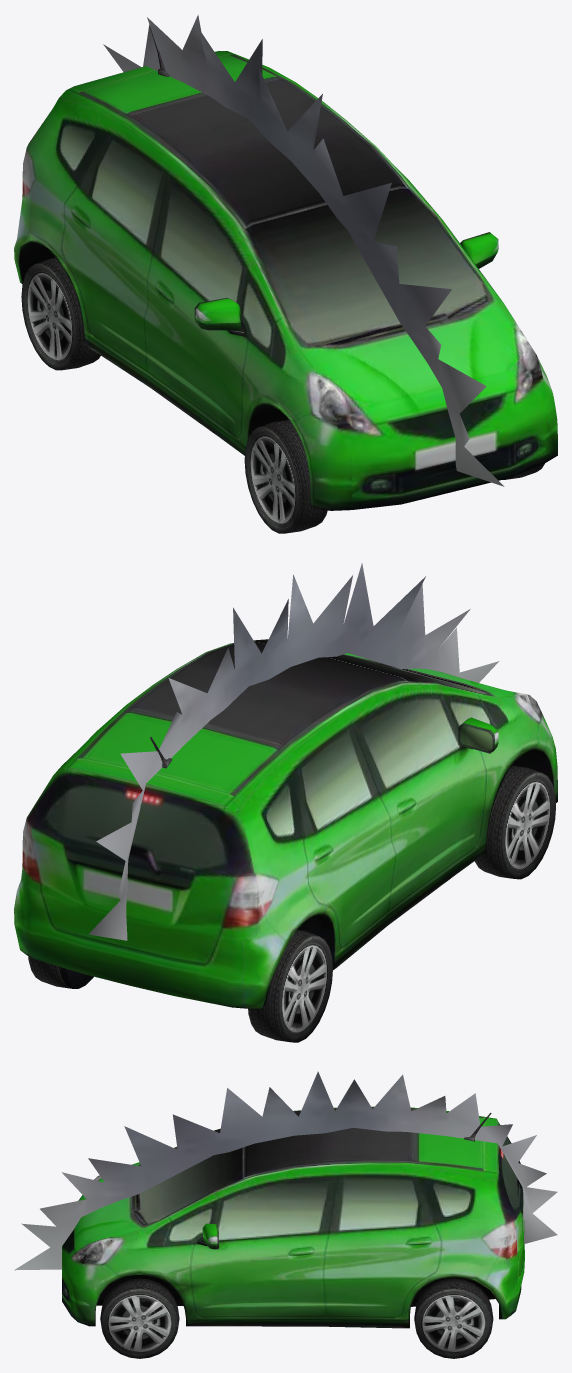
File: jazz.glb
The picture shows the model from 3 angles, top to bottom: view 1: azimuth 30°, elevation 25°; view 2: azimuth 150°, elevation 25°; view 3: azimuth 270°, elevation 25°; orthographic projection. The views are drawn at different scales.
Parts seen in each view (by area): view 1: Object_140; view 2: Object_140; view 3: Object_140.
Boxes of the visible parts, bbox=[...] form: Object_140: bbox=[14, 14, 557, 533]; Object_140: bbox=[14, 563, 557, 1042]; Object_140: bbox=[14, 1071, 557, 1358].
Bounding box in the file's own units: 2.21 × 2.44 × 4.94.
1 material, 1 textured.
